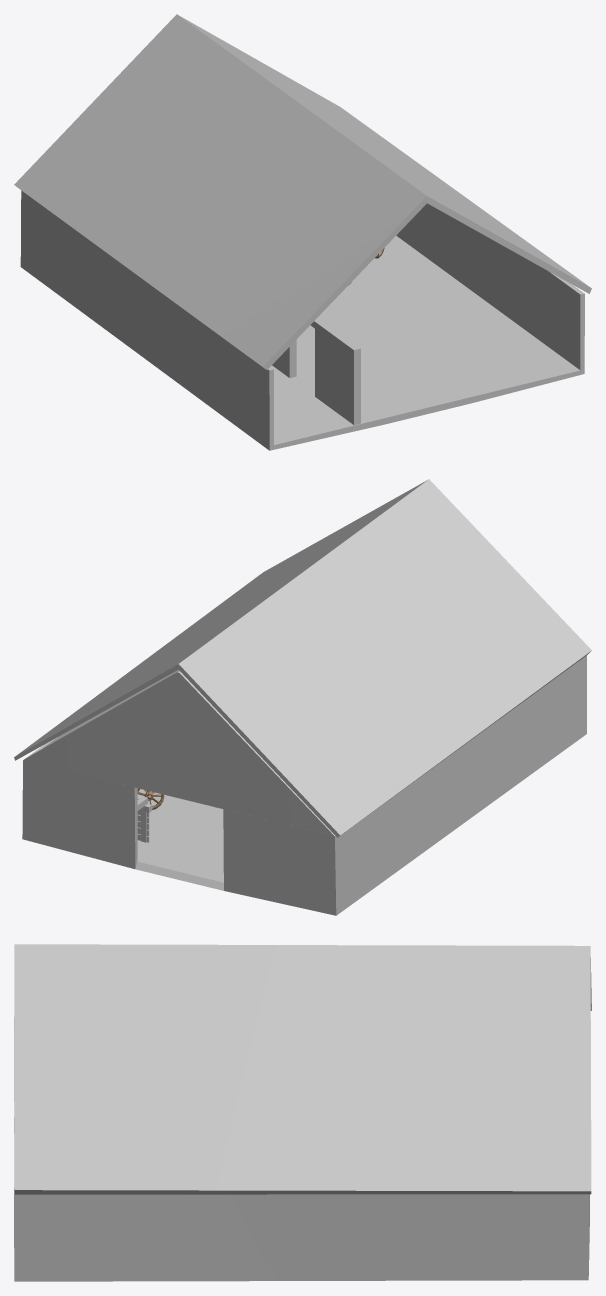
Rendered from barn_main.gltf.
The picture shows the model from 3 angles, top to bottom: view 1: azimuth 30°, elevation 25°; view 2: azimuth 150°, elevation 25°; view 3: azimuth 270°, elevation 25°; orthographic projection. The views are drawn at different scales.
Visible parts, largest first — view 1: BarnRoof1, BarnFloor, BarnWallLeft, BarnWallRight, BarnRoof2, BarnDivider3; view 2: BarnRoof1, BarnWallBack, BarnWallLeft, BarnRoof2, BarnFloor, BarnSepare; view 3: BarnRoof2, BarnWallRight.
Boxes of the visible parts, box(x1,y1,x2,y2) form: BarnRoof1: box(14, 14, 426, 369); BarnFloor: box(270, 235, 584, 450); BarnWallLeft: box(20, 190, 273, 450); BarnWallRight: box(396, 203, 584, 373); BarnRoof2: box(178, 15, 591, 293); BarnDivider3: box(315, 320, 360, 425); BarnRoof1: box(178, 479, 591, 837); BarnWallBack: box(22, 670, 336, 915); BarnWallLeft: box(335, 655, 586, 915); BarnRoof2: box(14, 479, 428, 760); BarnFloor: box(135, 789, 223, 890); BarnSepare: box(137, 796, 152, 842); BarnRoof2: box(14, 944, 591, 1194); BarnWallRight: box(14, 1187, 589, 1281).
Size of what is drawn, in the model's own units: 11.26 by 7.14 by 14.9.
